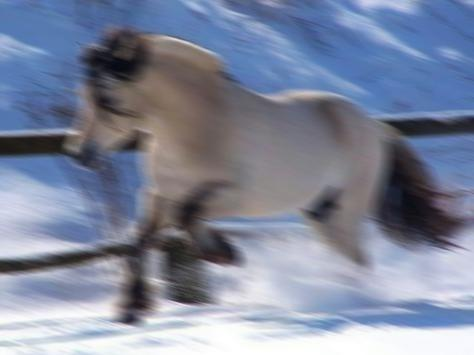horse: (65, 21, 474, 325)
